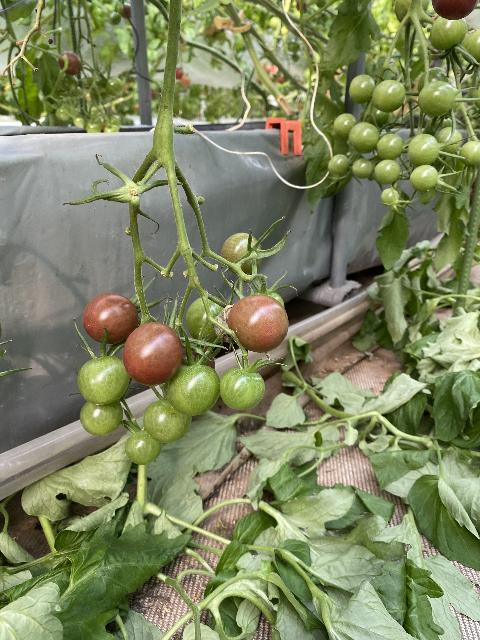l_fully_ripened: (82, 293, 138, 344), (431, 0, 465, 21)
l_green: (165, 363, 220, 416), (77, 355, 130, 405), (186, 295, 231, 346), (143, 399, 192, 443), (218, 367, 265, 411), (221, 232, 263, 276), (80, 400, 124, 437), (418, 80, 455, 118), (123, 430, 163, 465), (430, 16, 465, 51), (371, 79, 407, 113), (408, 133, 441, 167), (348, 121, 379, 154), (418, 67, 452, 96), (410, 164, 439, 191), (350, 75, 377, 103), (377, 132, 404, 160), (436, 127, 463, 154), (373, 159, 401, 184), (333, 114, 357, 137), (328, 155, 350, 176), (353, 157, 373, 178), (380, 188, 399, 203)
l_half_ripened: (121, 321, 184, 386), (227, 294, 289, 353)
